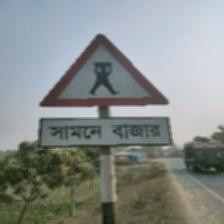Market-in-front: (37, 33, 173, 149)
